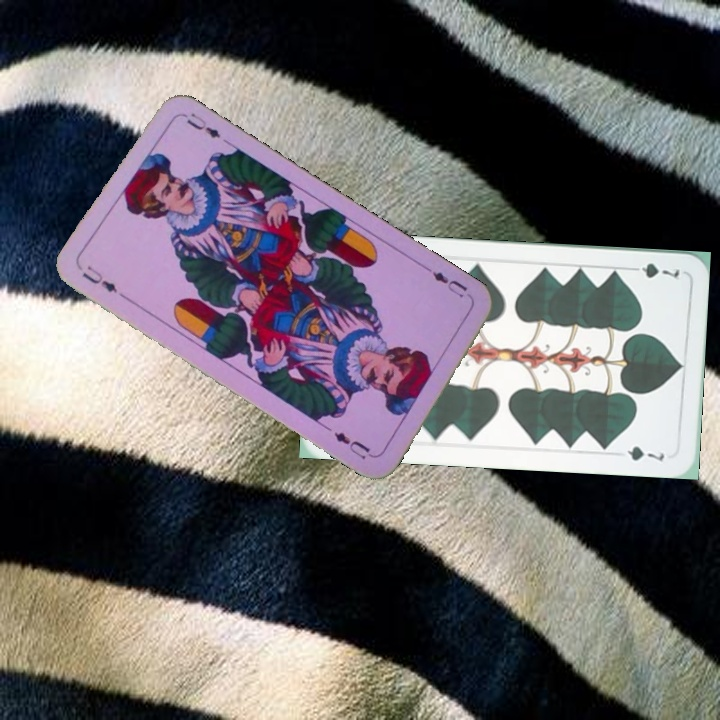EU: (428, 267, 475, 302), (78, 261, 120, 296)
G7: (624, 259, 682, 281)
